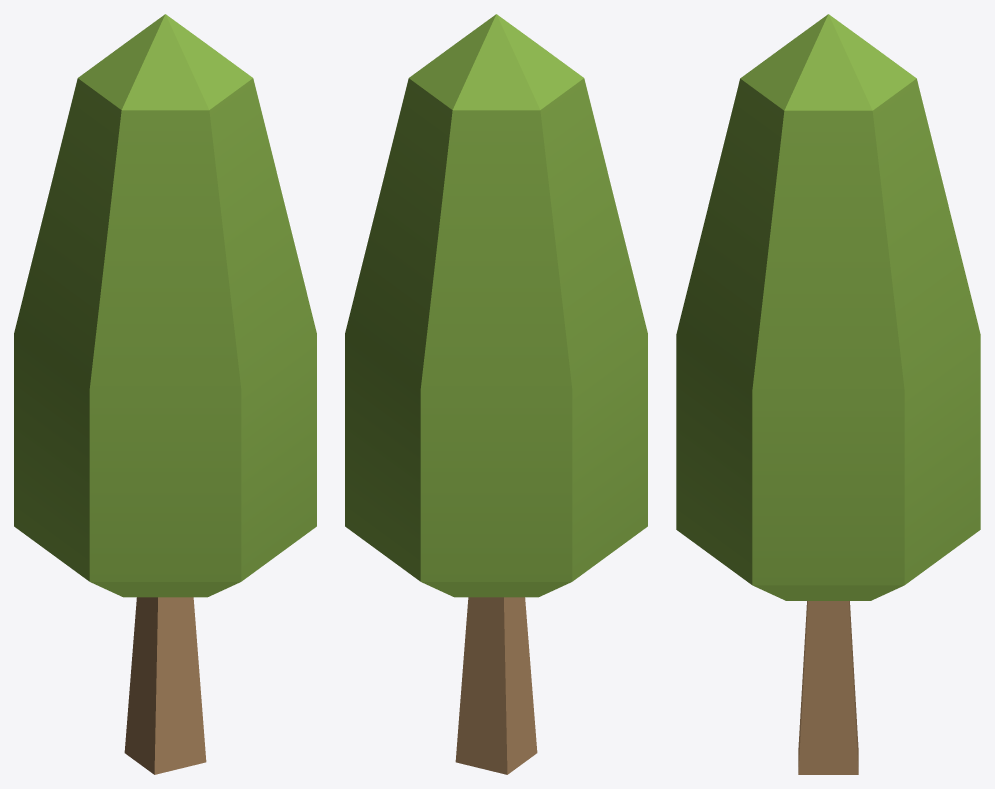
File: kenney-tree-019.obj
The picture shows the model from 3 angles, left to right: view 1: azimuth 30°, elevation 25°; view 2: azimuth 150°, elevation 25°; view 3: azimuth 270°, elevation 25°; orthographic projection.
Parts seen in each view (by area): view 1: Mesh1 Group1 Model; view 2: Mesh1 Group1 Model; view 3: Mesh1 Group1 Model.
Part boxes in pixels (x1,y1,x2,y2): Mesh1 Group1 Model: (14, 14, 316, 774); Mesh1 Group1 Model: (345, 14, 647, 774); Mesh1 Group1 Model: (676, 14, 980, 774).
Bounding box in the file's own units: 0.8086 × 2.53 × 0.9337.
Materials: 2 (2 with a texture image).
